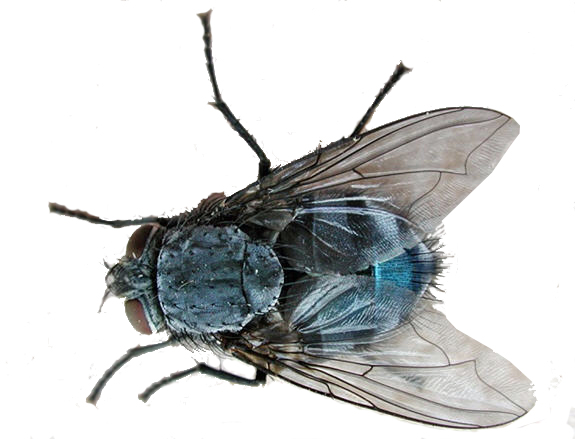green bottles flies: (20, 4, 558, 433)
